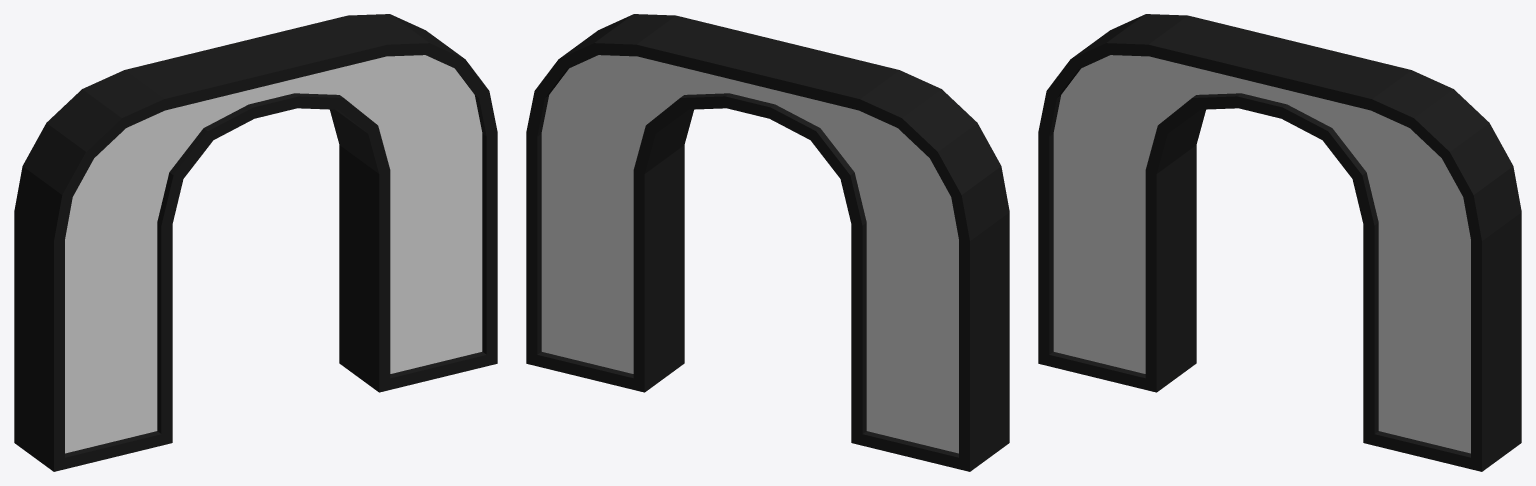
Rendered from Dver.fbx.
3 views of the same model, side by side, from view 1: azimuth 30°, elevation 25°; view 2: azimuth 150°, elevation 25°; view 3: azimuth 330°, elevation 25° (orthographic).
Parts seen in each view (by area): view 1: Косяк.002; view 2: Косяк.002; view 3: Косяк.002.
Part boxes in pixels (x1,y1,x2,y2): Косяк.002: (14, 14, 497, 471); Косяк.002: (526, 14, 1009, 471); Косяк.002: (1038, 14, 1521, 471).
Bounding box in the file's own units: 3.01 × 2.24 × 0.4671.
